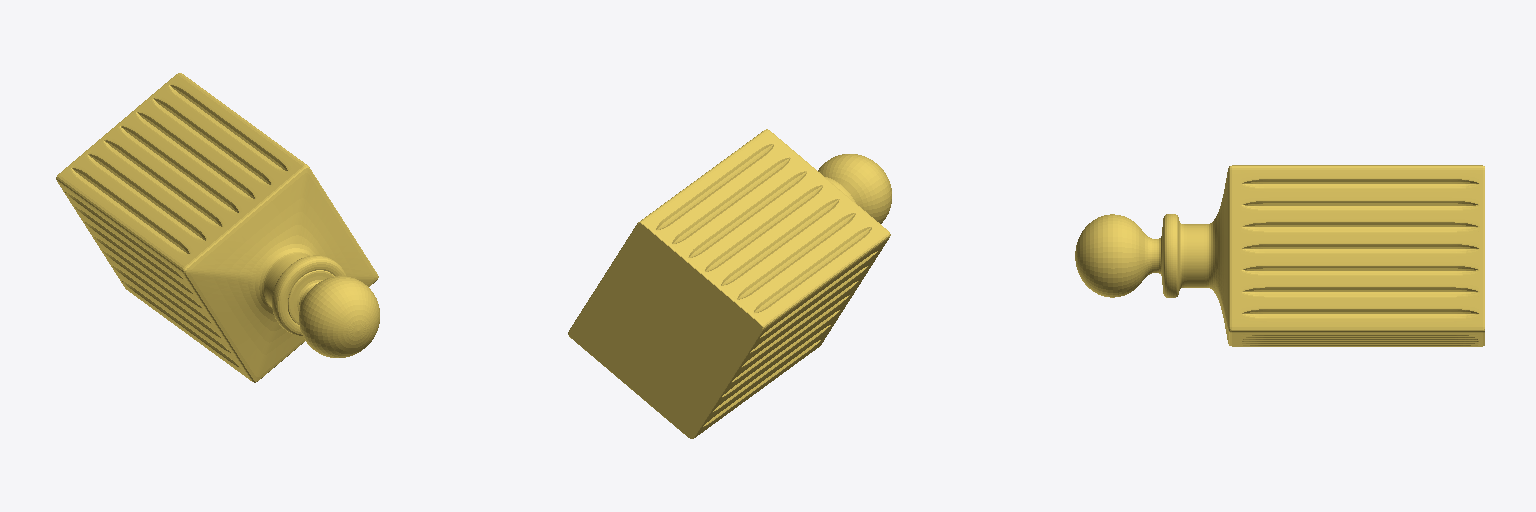
Rendered from karafka.obj.
3 renders of one model, left to right at view 1: azimuth 30°, elevation 25°; view 2: azimuth 150°, elevation 25°; view 3: azimuth 270°, elevation 25°, orthographic.
Size of the model in its own units: 54.3 by 54.3 by 98.44.